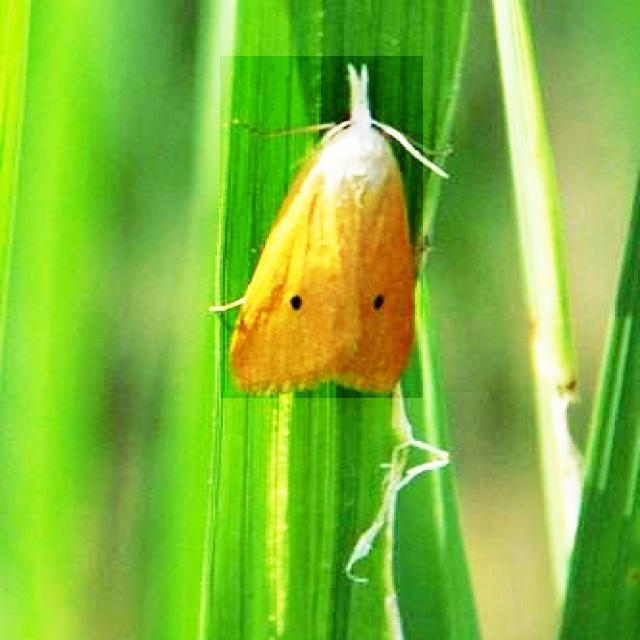stem-borer: (220, 56, 423, 398)
